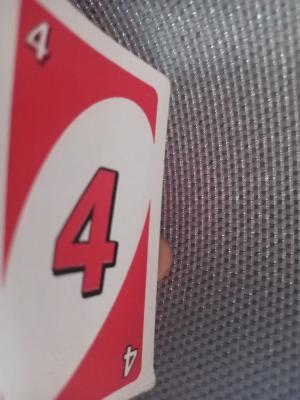num_4: (45, 163, 122, 306), (19, 18, 64, 71)
